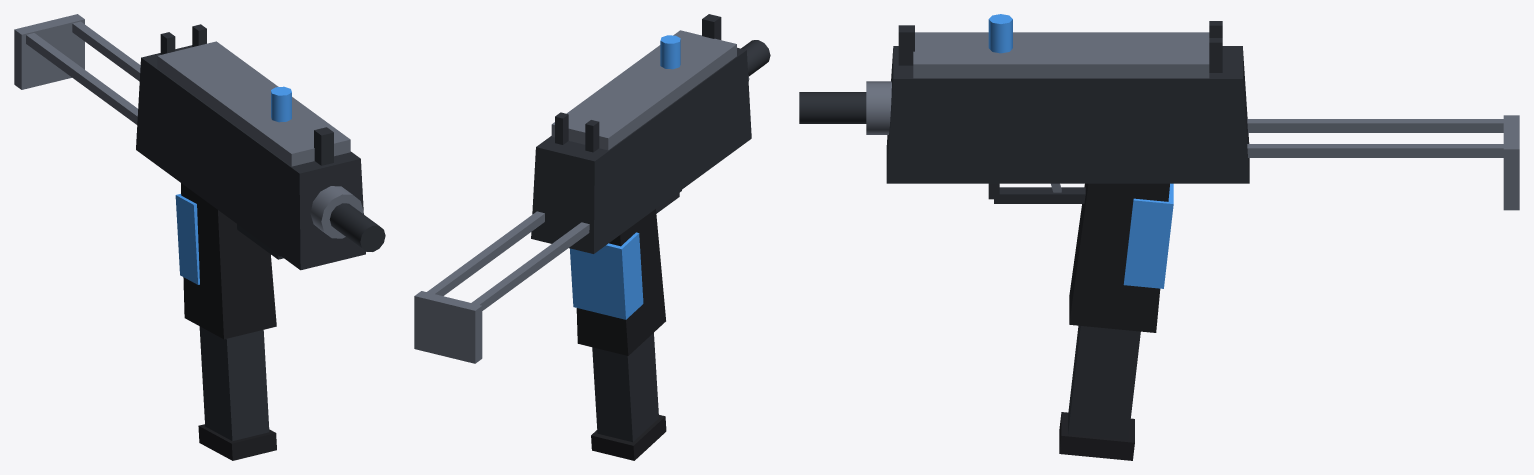
Rendered from SMG_Uzi.obj.
3 renders of one model, left to right at view 1: azimuth 30°, elevation 25°; view 2: azimuth 150°, elevation 25°; view 3: azimuth 270°, elevation 25°, orthographic. The views are drawn at different scales.
Parts seen in each view (by area): view 1: Receiver, TopCover, Grip, Mag, Stock, GripPanel, Barrel, MagBase, BarrelNut, CockingKnob, FrontSight, RearSight; view 2: Receiver, TopCover, Stock, Mag, Grip, GripPanel, MagBase, RearSight, CockingKnob, Barrel, FrontSight; view 3: Receiver, TopCover, Grip, Stock, Mag, GripPanel, Barrel, MagBase, TriggerGuard, BarrelNut, CockingKnob, RearSight.
Part boxes in pixels (left/top/right/bottom): Receiver: left=136, top=45, right=365, bottom=270; TopCover: left=157, top=41, right=350, bottom=166; Grip: left=181, top=183, right=276, bottom=339; Mag: left=199, top=326, right=269, bottom=441; Stock: left=14, top=14, right=140, bottom=124; GripPanel: left=175, top=194, right=199, bottom=284; Barrel: left=329, top=203, right=385, bottom=251; MagBase: left=198, top=424, right=276, bottom=460; BarrelNut: left=310, top=186, right=363, bottom=238; CockingKnob: left=271, top=86, right=291, bottom=122; FrontSight: left=314, top=127, right=333, bottom=165; RearSight: left=160, top=24, right=206, bottom=54; Receiver: left=531, top=47, right=751, bottom=253; TopCover: left=551, top=30, right=736, bottom=150; Stock: left=414, top=211, right=589, bottom=363; Mag: left=592, top=333, right=658, bottom=442; Grip: left=576, top=209, right=665, bottom=355; GripPanel: left=570, top=232, right=643, bottom=319; MagBase: left=591, top=415, right=666, bottom=460; RearSight: left=555, top=112, right=599, bottom=152; CockingKnob: left=660, top=35, right=680, bottom=69; Barrel: left=741, top=40, right=770, bottom=76; FrontSight: left=702, top=14, right=721, bottom=39; Receiver: left=886, top=46, right=1249, bottom=183; TopCover: left=913, top=32, right=1209, bottom=78; Grip: left=1069, top=183, right=1169, bottom=332; Stock: left=1247, top=115, right=1519, bottom=210; Mag: left=1068, top=325, right=1140, bottom=439; GripPanel: left=1123, top=183, right=1173, bottom=288; Barrel: left=799, top=92, right=866, bottom=123; MagBase: left=1059, top=412, right=1134, bottom=460; TriggerGuard: left=988, top=183, right=1085, bottom=203; BarrelNut: left=866, top=81, right=891, bottom=134; CockingKnob: left=988, top=14, right=1012, bottom=53; RearSight: left=1209, top=21, right=1222, bottom=72.
Size of the model in its own units: 0.062 by 0.3529 by 0.536.
